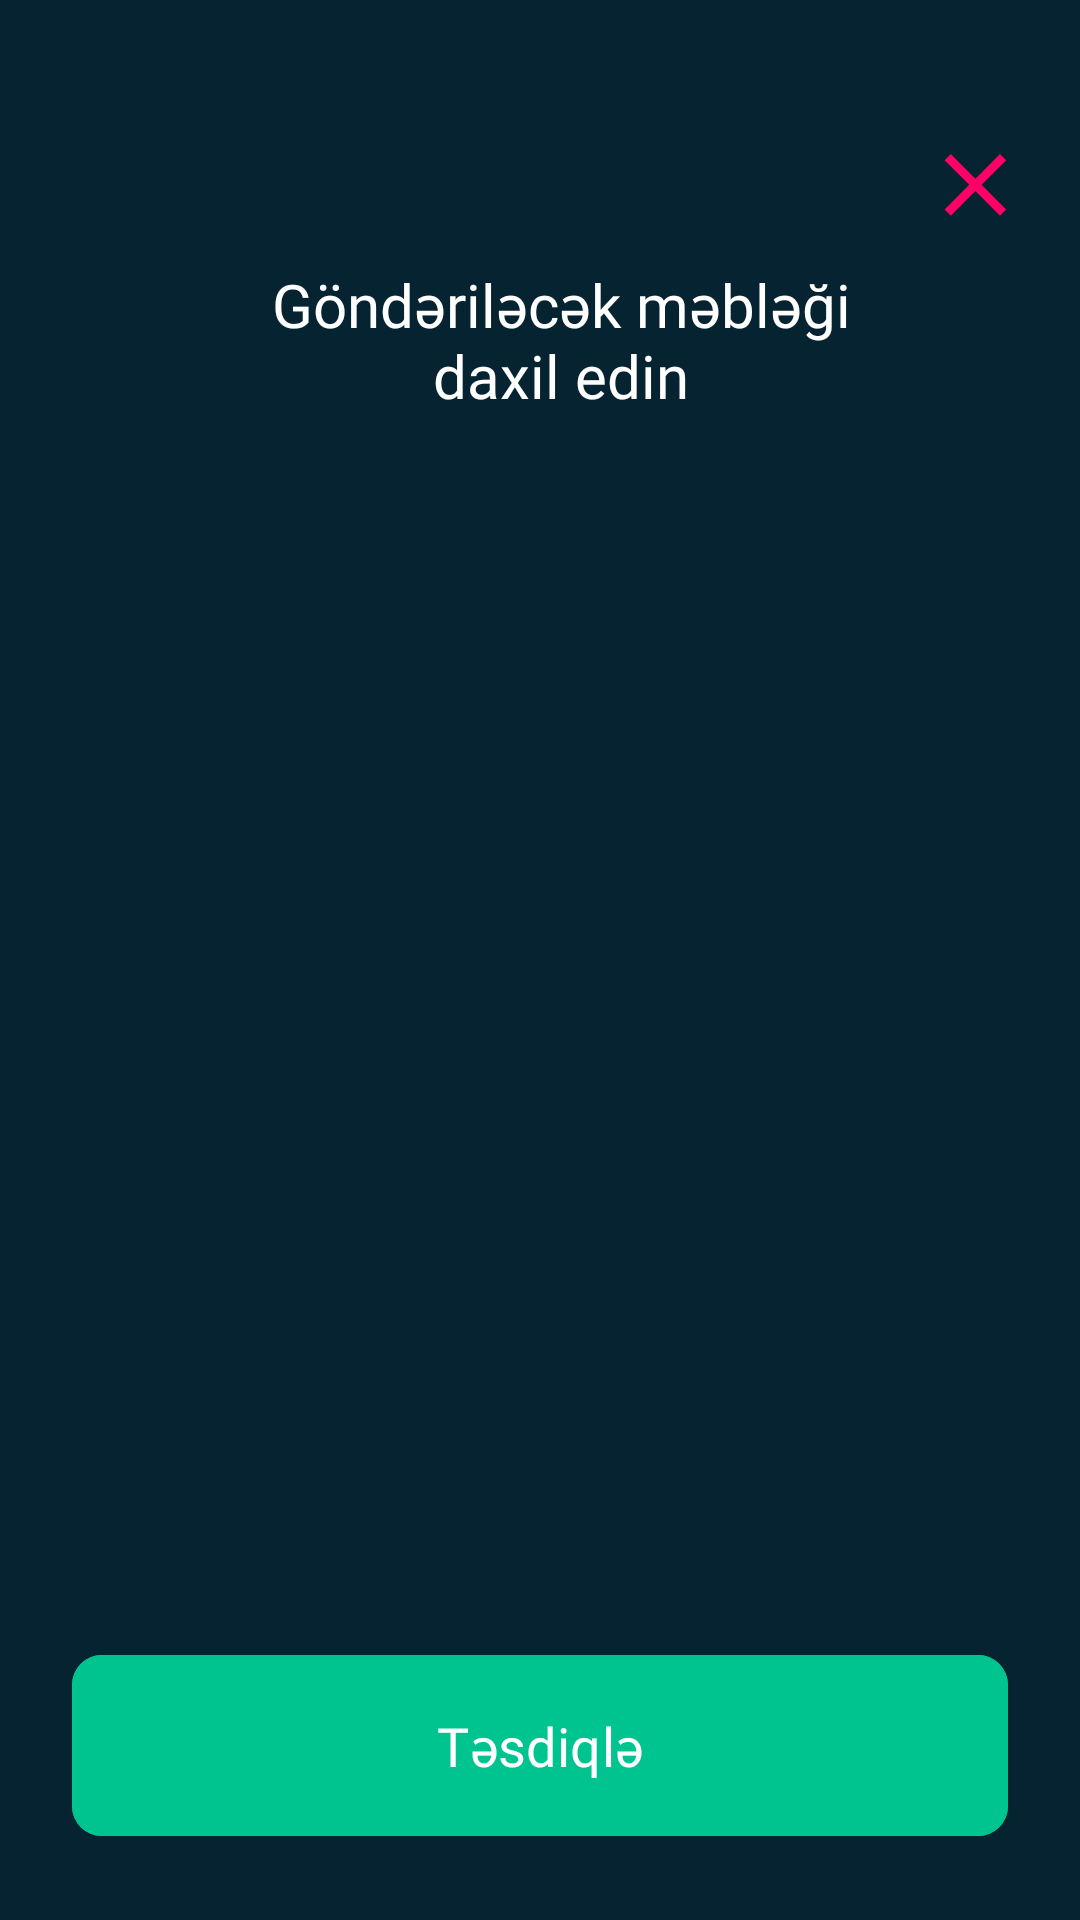

Named icons in this screenshot (1080px×1920px) and their bounding boxes, (x1, y1, x2, y2):
close: (944, 154, 1006, 216)
